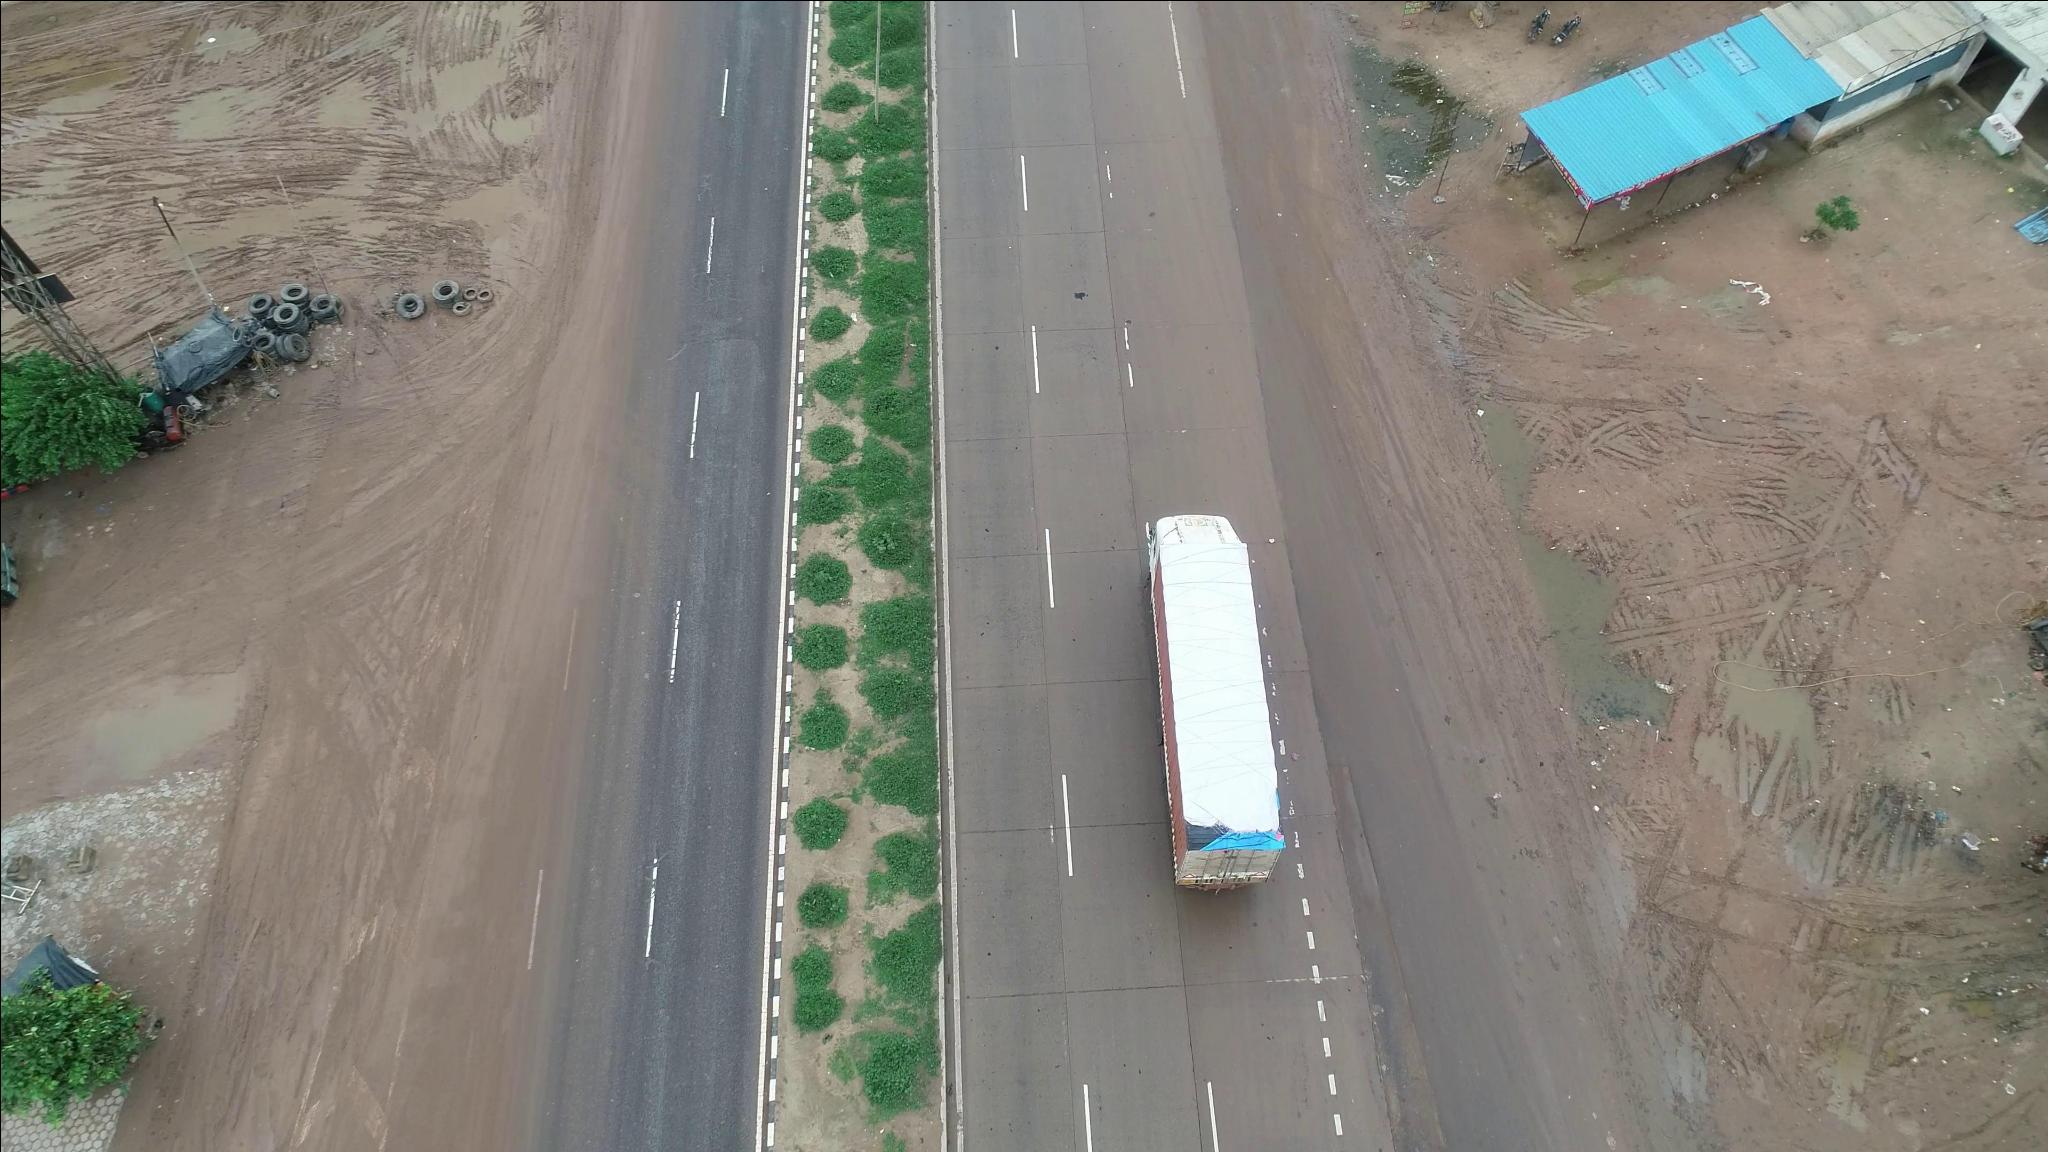Muddy_road: (159, 560, 570, 1132), (314, 152, 640, 554)
